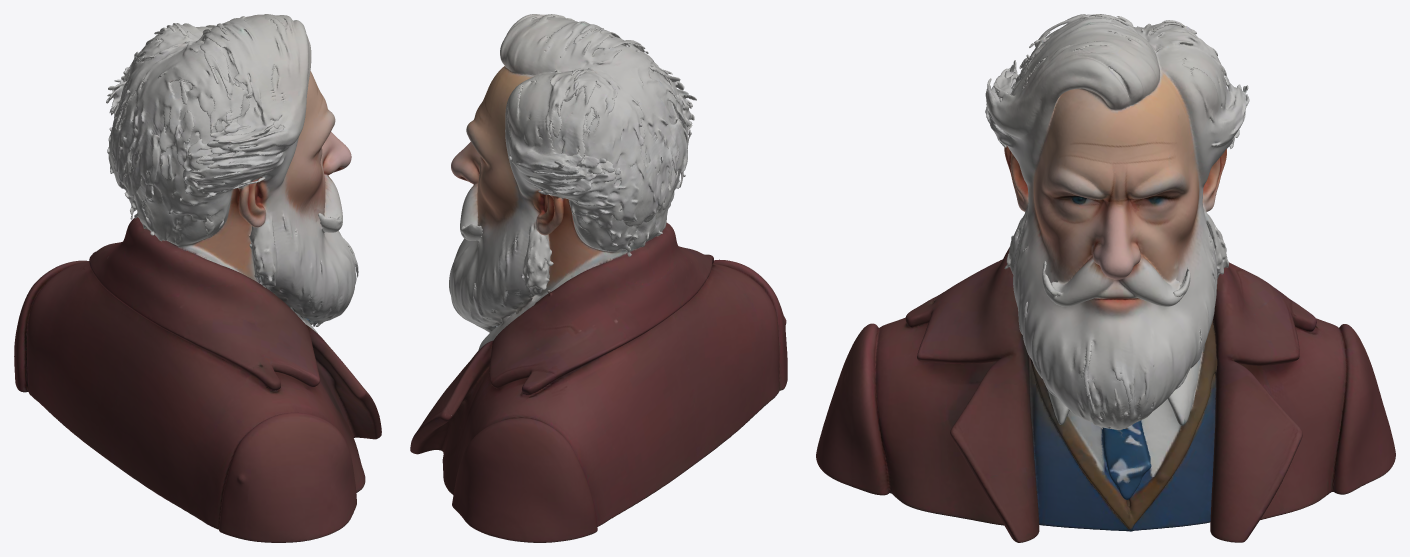
File: detailed_realistic_model_albusdumbledore_03.glb
3 views of the same model, side by side, from view 1: azimuth 30°, elevation 25°; view 2: azimuth 150°, elevation 25°; view 3: azimuth 270°, elevation 25° (orthographic). The views are drawn at different scales.
Parts seen in each view (by area): view 1: tripo_node_a4beae35-4342-4591-8199-5d7ced644c63; view 2: tripo_node_a4beae35-4342-4591-8199-5d7ced644c63; view 3: tripo_node_a4beae35-4342-4591-8199-5d7ced644c63.
Boxes of the visible parts, x1,y1,x2,y2 form: tripo_node_a4beae35-4342-4591-8199-5d7ced644c63: (14, 14, 381, 542); tripo_node_a4beae35-4342-4591-8199-5d7ced644c63: (410, 14, 787, 542); tripo_node_a4beae35-4342-4591-8199-5d7ced644c63: (816, 14, 1395, 542).
Bounding box in the file's own units: 0.5437 × 0.8799 × 1.
1 material, 1 textured.
